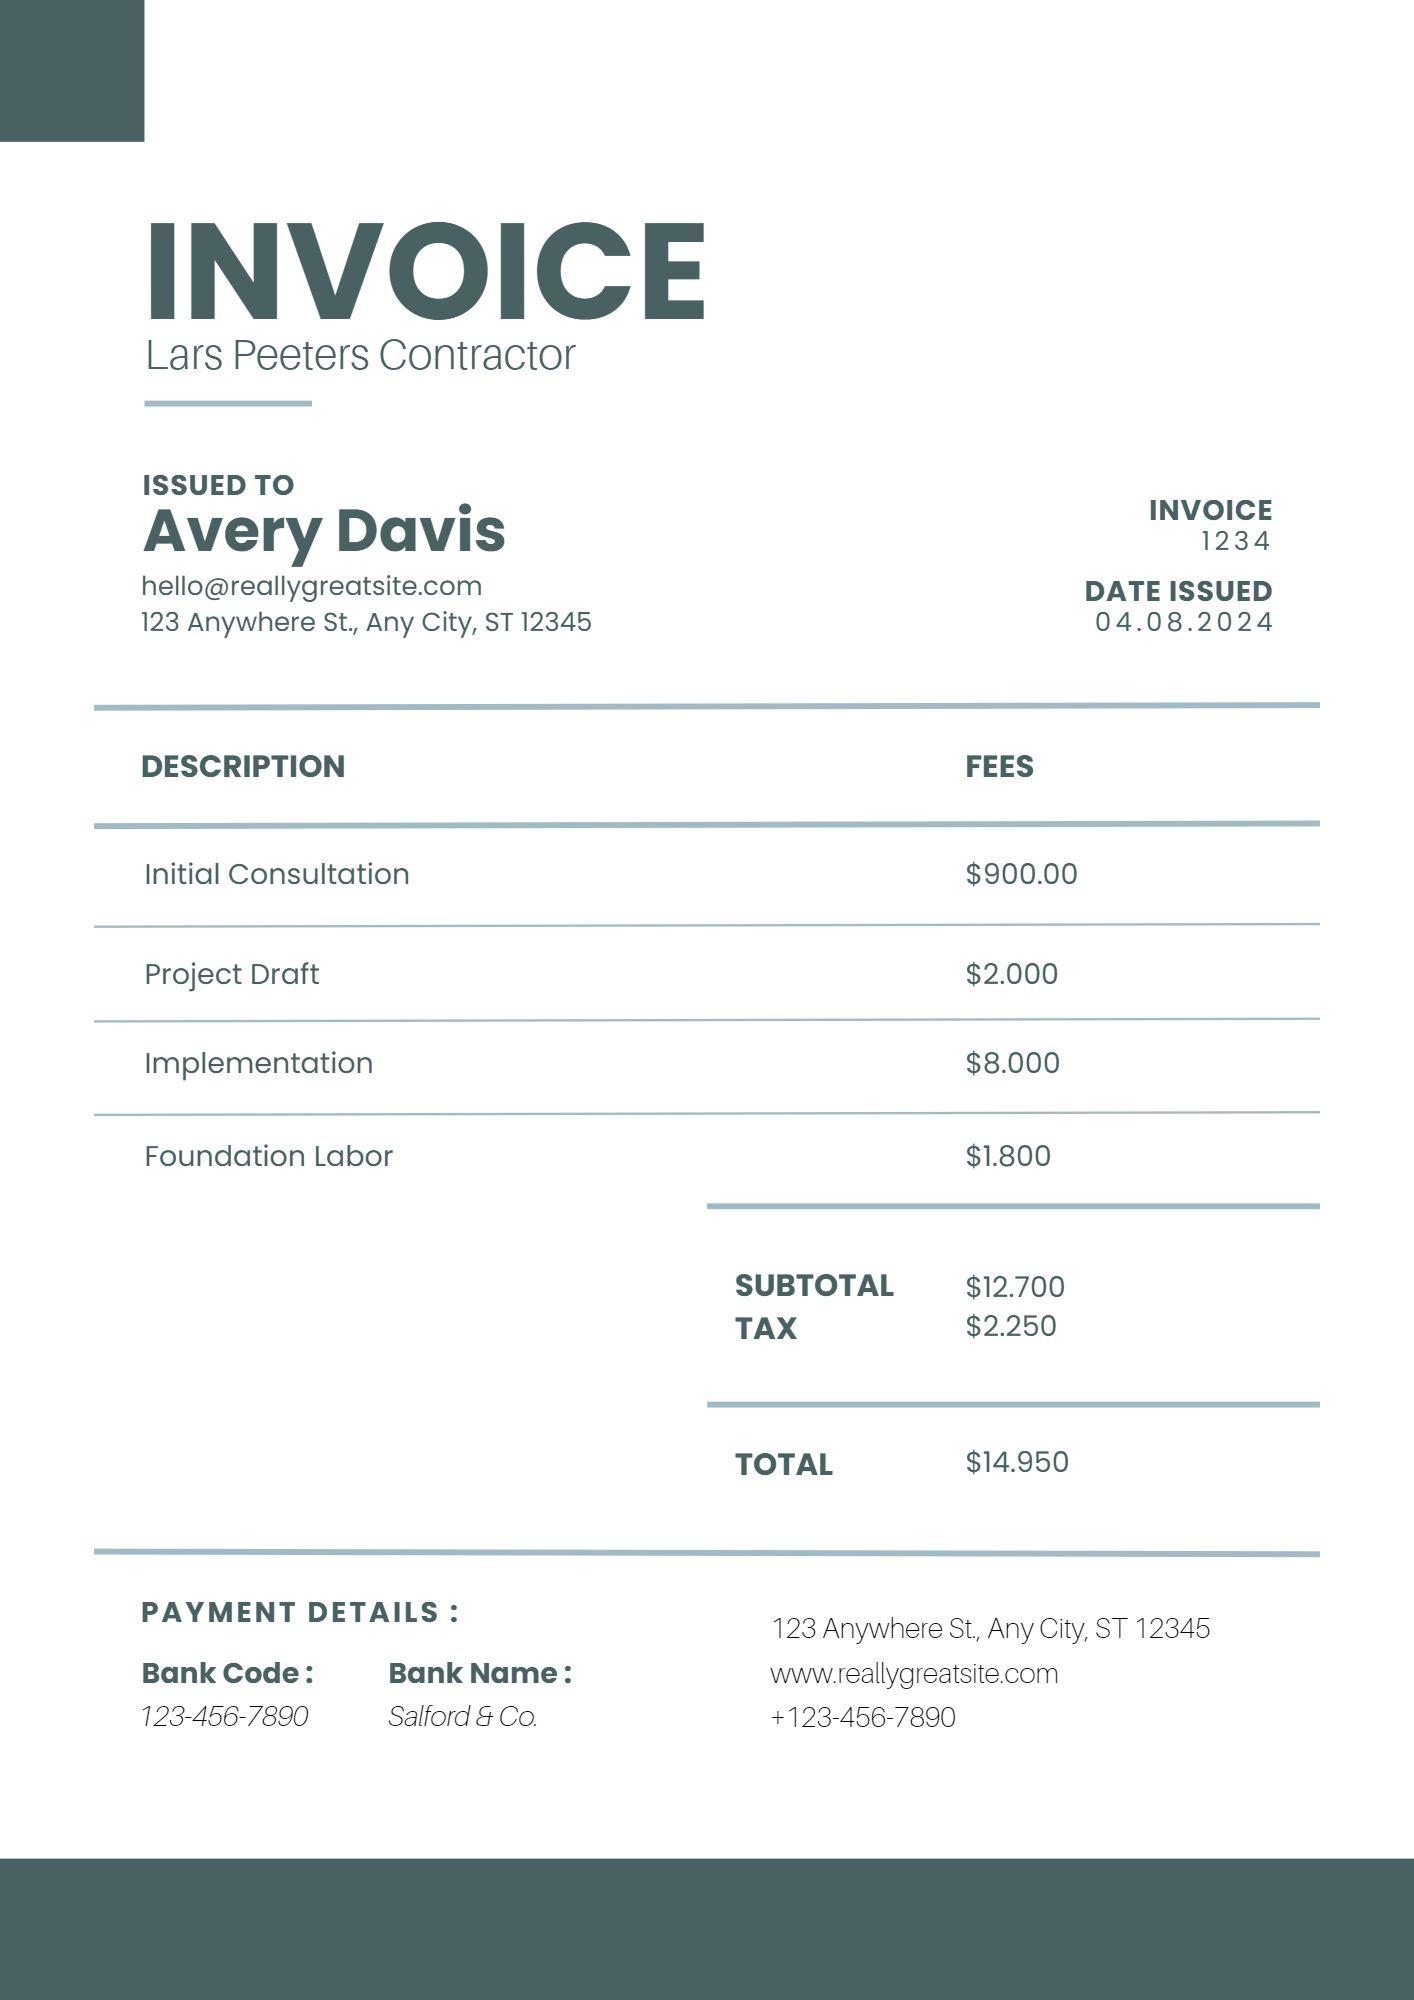ROI: (106, 704, 1324, 1215)
